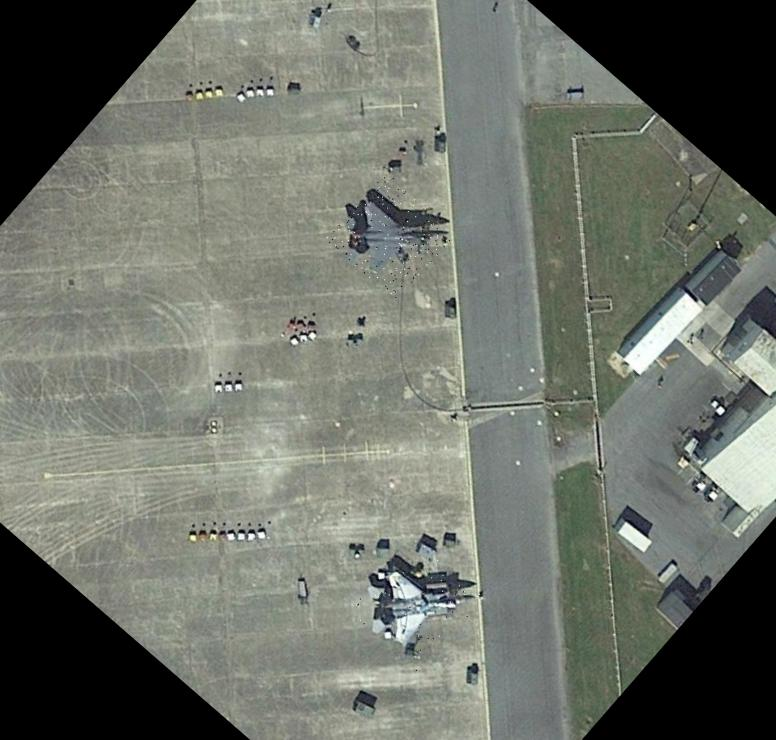A13: (346, 536, 484, 672), (324, 171, 456, 302)
